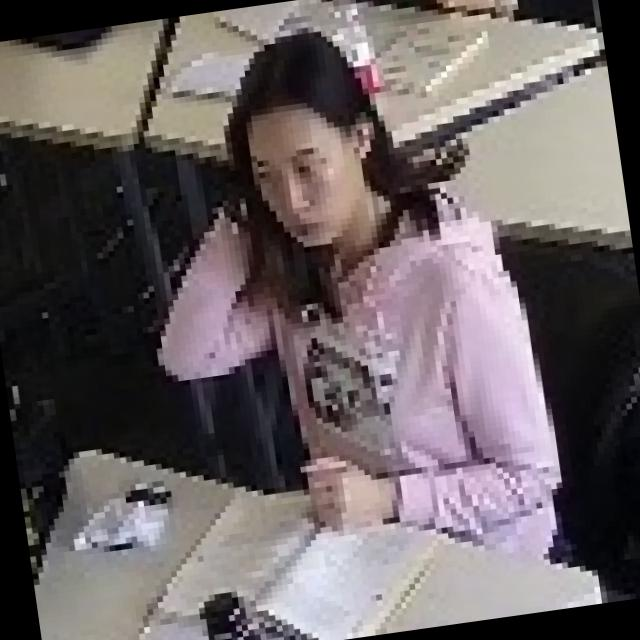listen: (93, 6, 582, 615)
